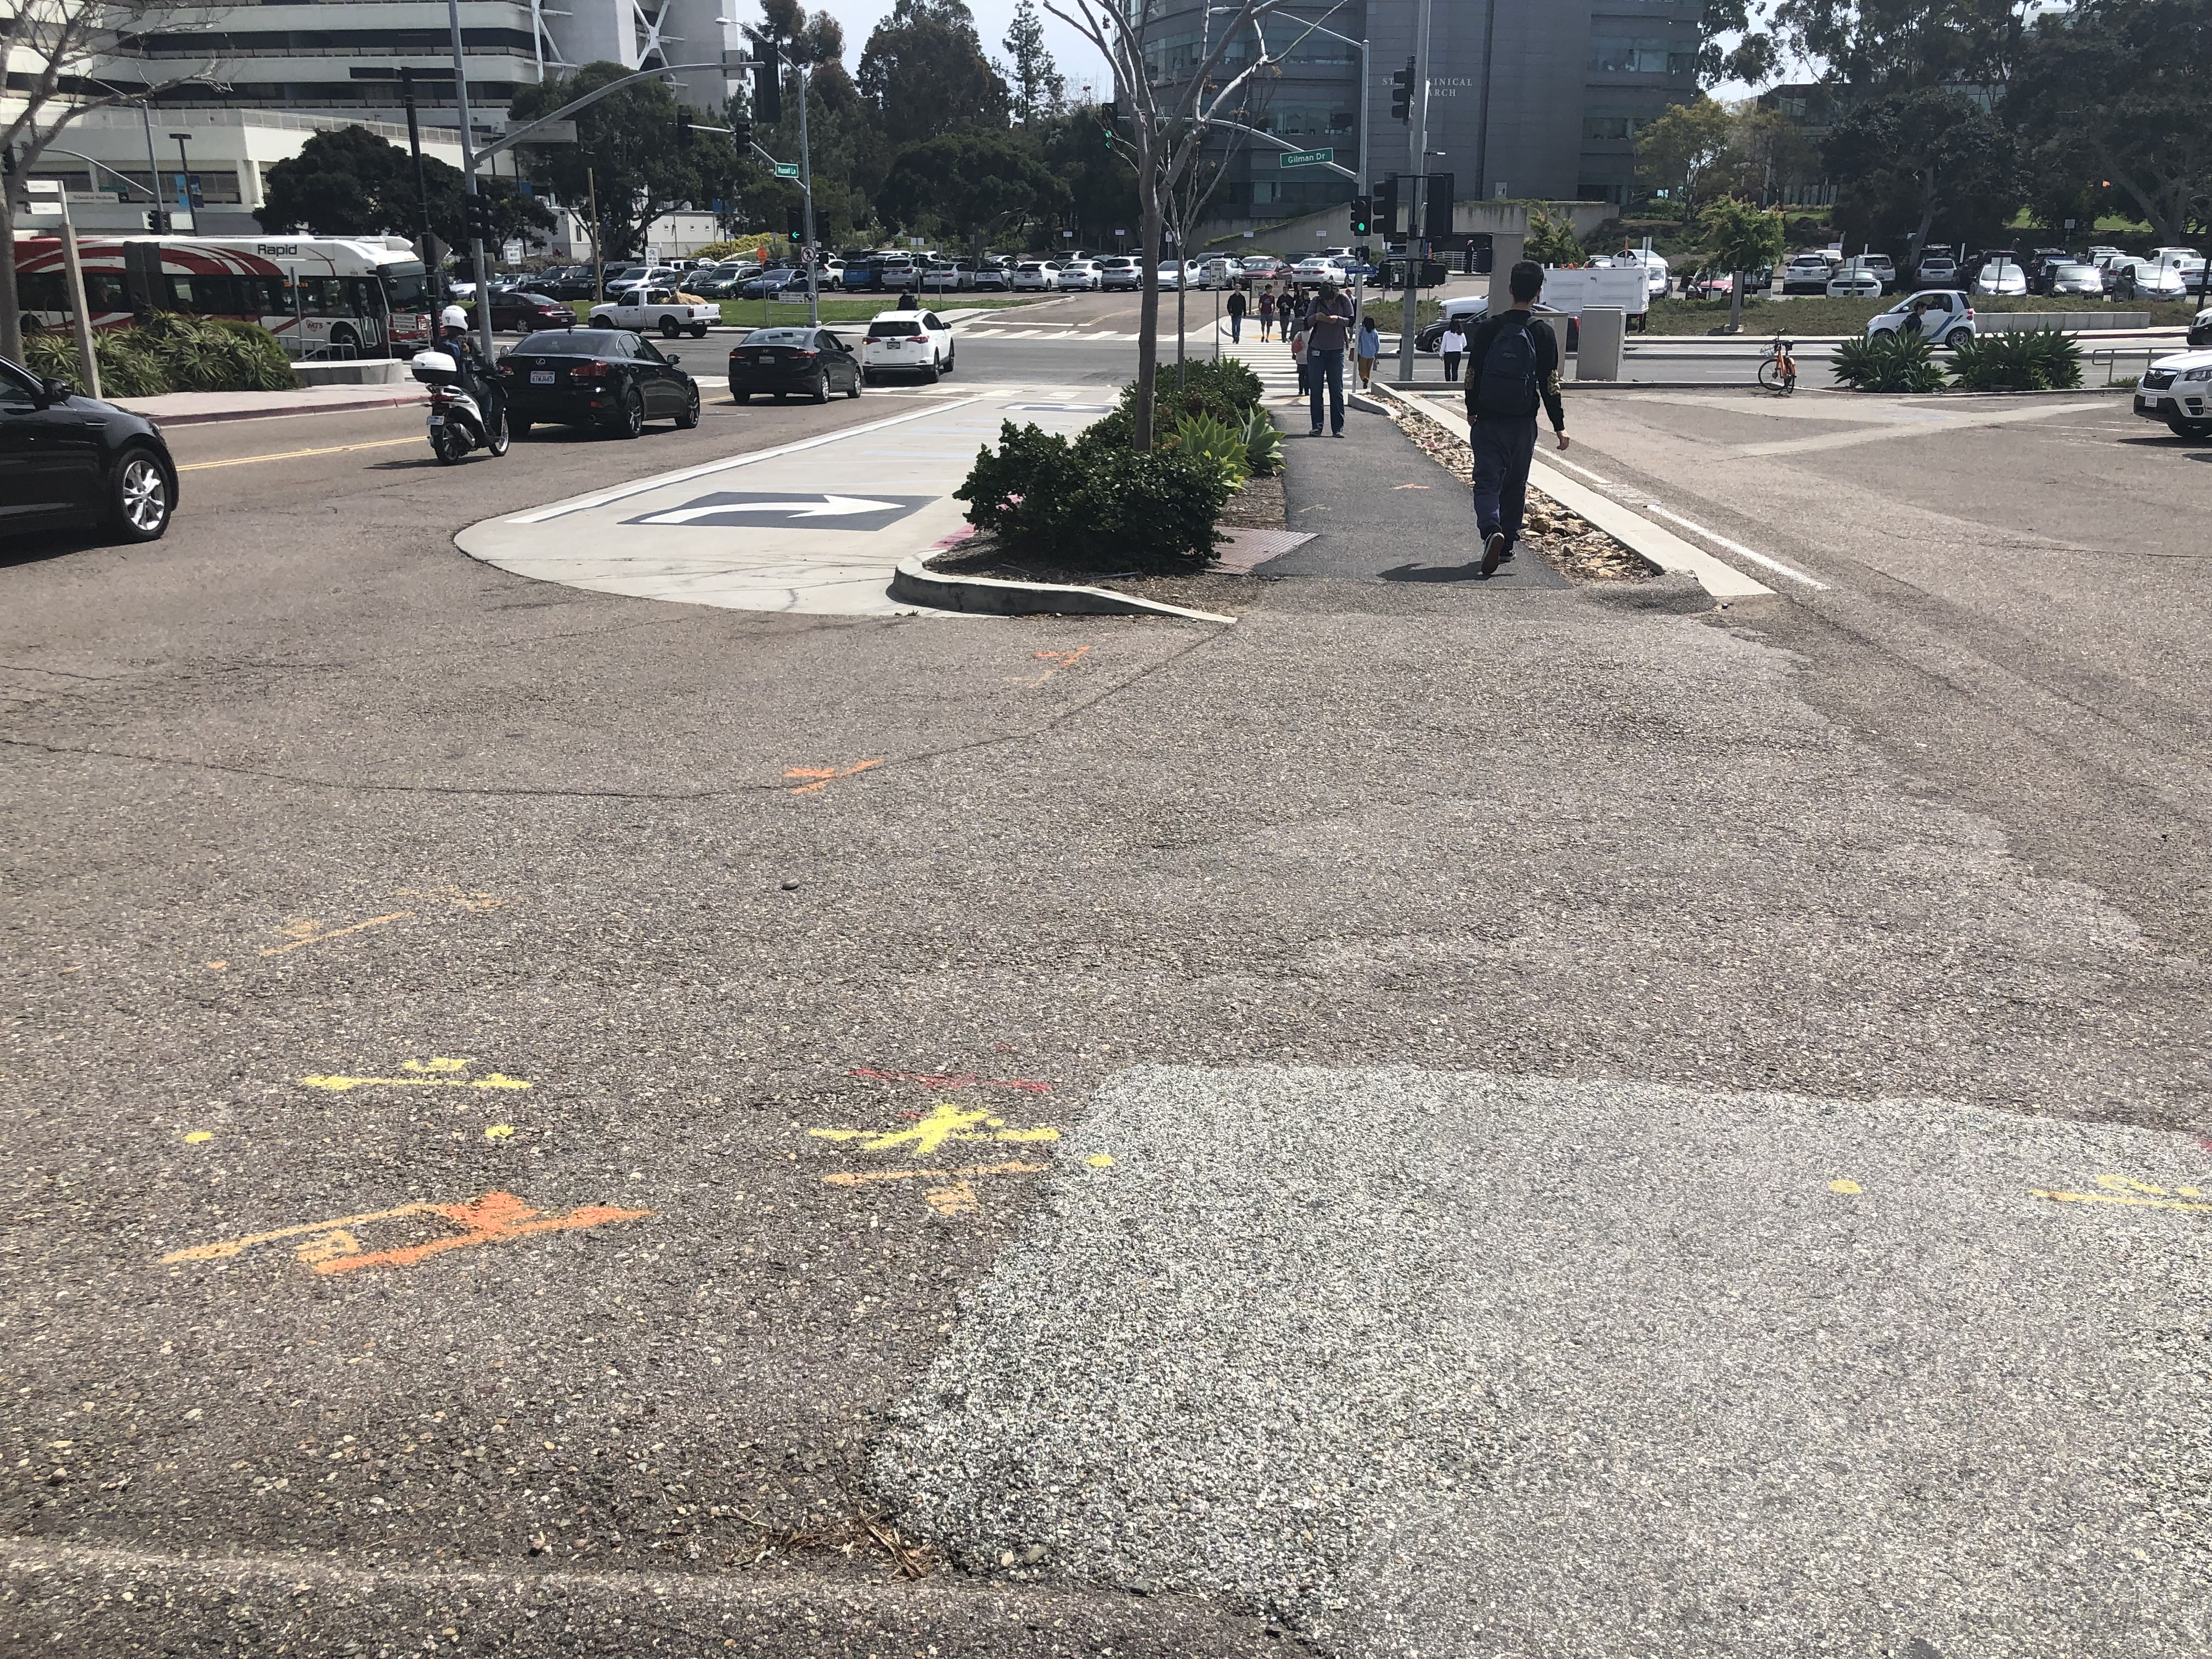Edge: (1360, 371, 1768, 629), (880, 538, 1256, 674)
Obstacle: (401, 289, 953, 458), (1050, 9, 1294, 352), (960, 420, 1242, 633), (24, 228, 439, 369), (1451, 263, 1576, 584), (5, 362, 186, 565), (1108, 352, 1278, 469), (1275, 279, 1355, 436), (1862, 279, 1972, 362)
